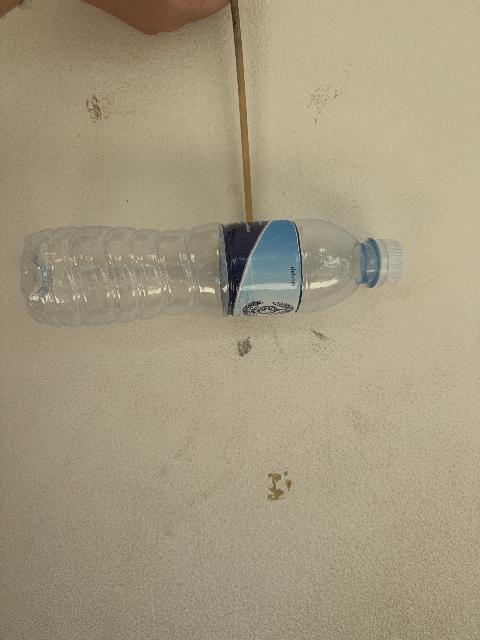bottle: (21, 220, 404, 326)
